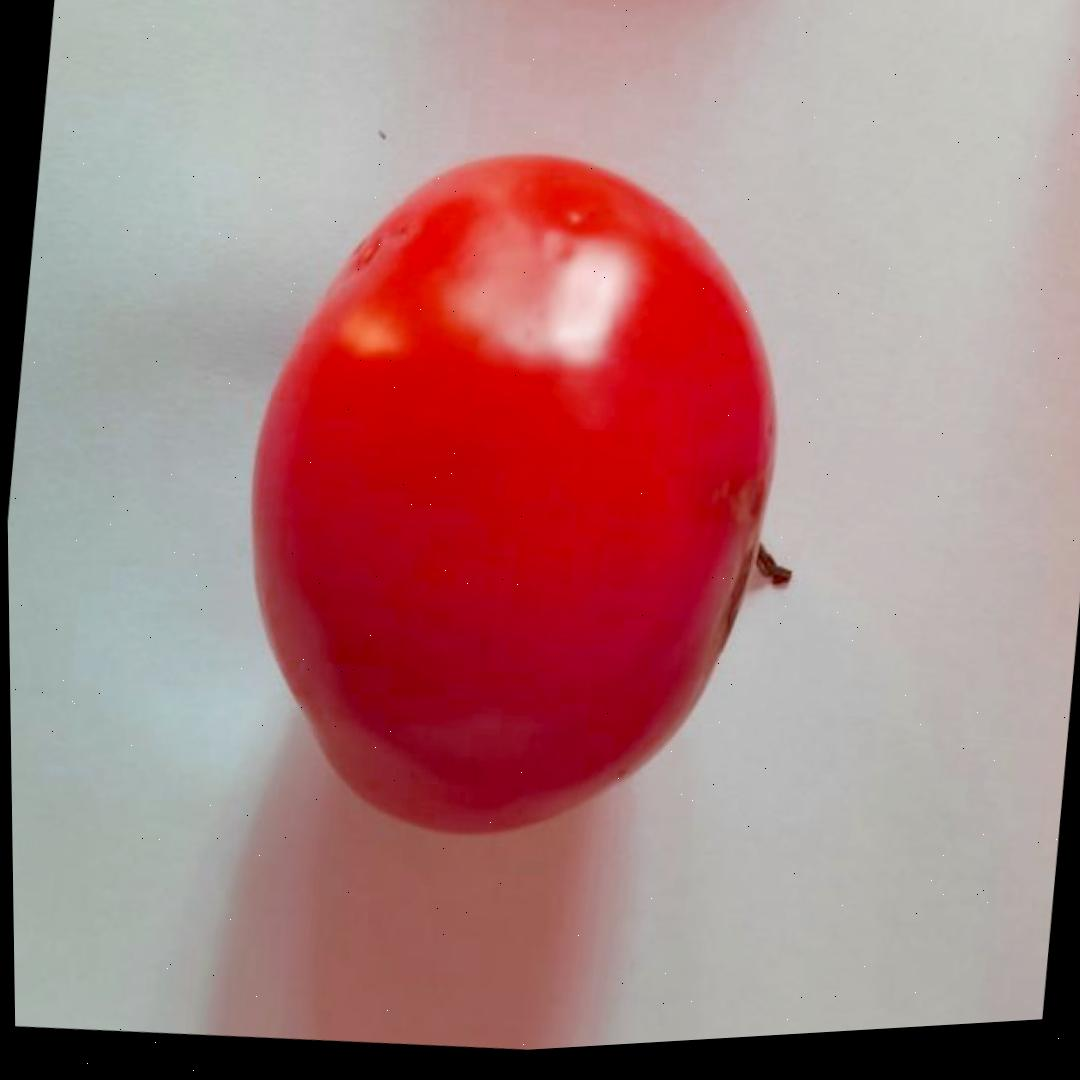matang: (207, 107, 815, 884)
